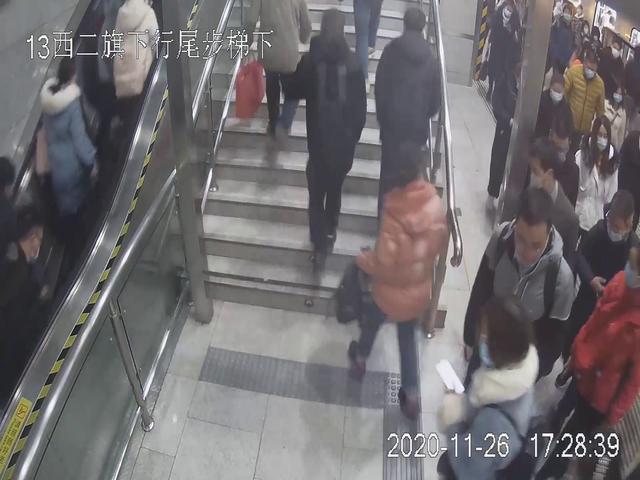person: (344, 146, 453, 412), (461, 185, 571, 412), (287, 7, 383, 253), (372, 6, 442, 228), (29, 55, 108, 229), (108, 1, 166, 154), (568, 113, 624, 269), (564, 50, 606, 148)
